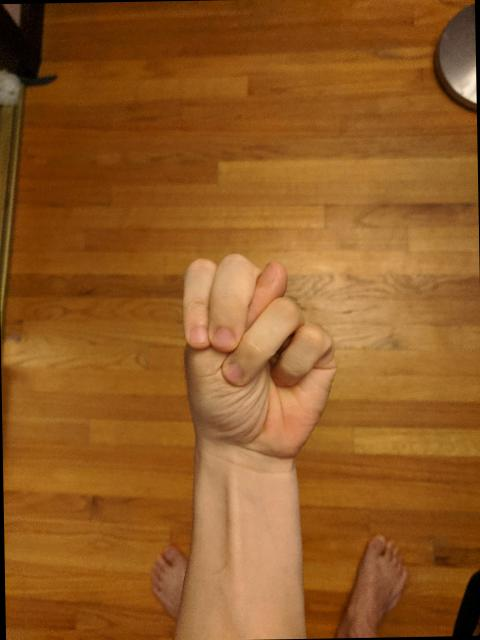N: (176, 247, 343, 462)
